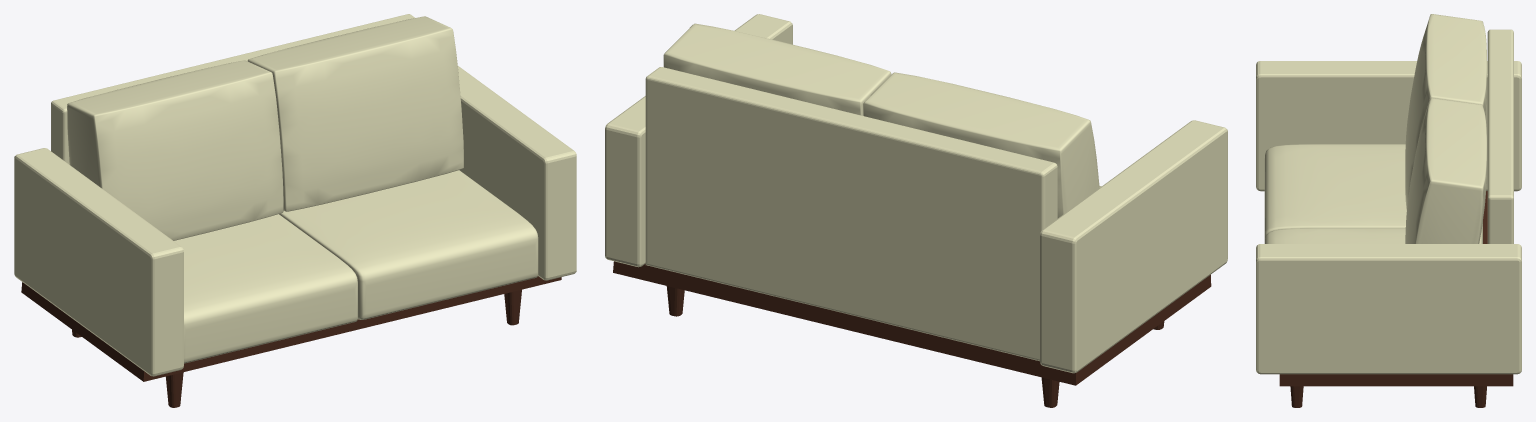
Rendered from Sofa.fbx.
The picture shows the model from 3 angles, left to right: view 1: azimuth 30°, elevation 25°; view 2: azimuth 150°, elevation 25°; view 3: azimuth 270°, elevation 25°; orthographic projection. The views are drawn at different scales.
Parts seen in each view (by area): view 1: Sofa; view 2: Sofa; view 3: Sofa.
Boxes of the visible parts, box(x1,y1,x2,y2) form: Sofa: box(14, 14, 576, 407); Sofa: box(605, 14, 1227, 407); Sofa: box(1256, 14, 1521, 407).
Size of the model in its own units: 1.5 by 0.8152 by 0.852.
